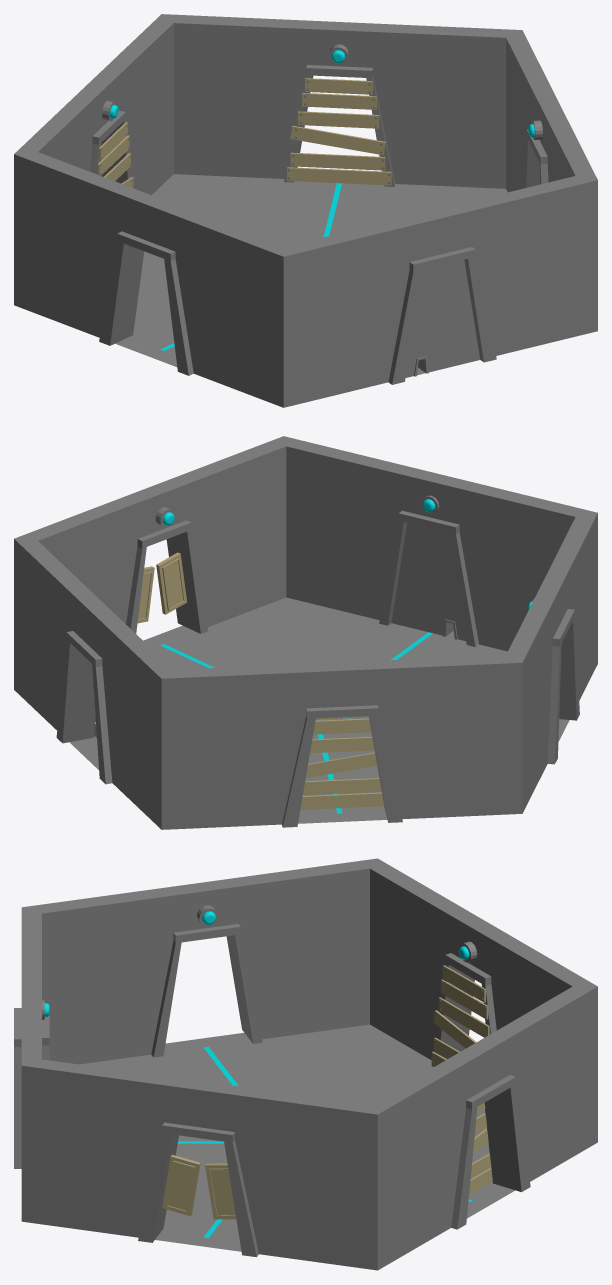
The model's file is Pentagon.fbx.
The picture shows the model from 3 angles, top to bottom: view 1: azimuth 30°, elevation 25°; view 2: azimuth 150°, elevation 25°; view 3: azimuth 270°, elevation 25°; orthographic projection. The views are drawn at different scales.
Visible parts, largest first — view 1: Puertas_Bar, Pentagon_Floor, Maderas1.001, Pentagon_Tiny_Door, Maderas1; view 2: Puertas_Bar, Pentagon_Floor, Pentagon_Tiny_Door, Maderas1; view 3: Puertas_Bar, Pentagon_Floor, Maderas1, Maderas1.001.
Boxes of the visible parts, x1,y1,x2,y2 form: Puertas_Bar: [14, 14, 597, 407]; Pentagon_Floor: [128, 174, 507, 355]; Maderas1.001: [287, 78, 391, 185]; Pentagon_Tiny_Door: [405, 260, 480, 377]; Maderas1: [97, 122, 133, 187]; Puertas_Bar: [14, 436, 597, 829]; Pentagon_Floor: [87, 597, 507, 815]; Pentagon_Tiny_Door: [391, 523, 465, 641]; Maderas1: [300, 716, 383, 809]; Puertas_Bar: [14, 858, 597, 1270]; Pentagon_Floor: [79, 1024, 498, 1242]; Maderas1: [431, 965, 489, 1066]; Maderas1.001: [469, 1103, 492, 1194].
Bounding box in the file's own units: 2818 × 810 × 2715.
